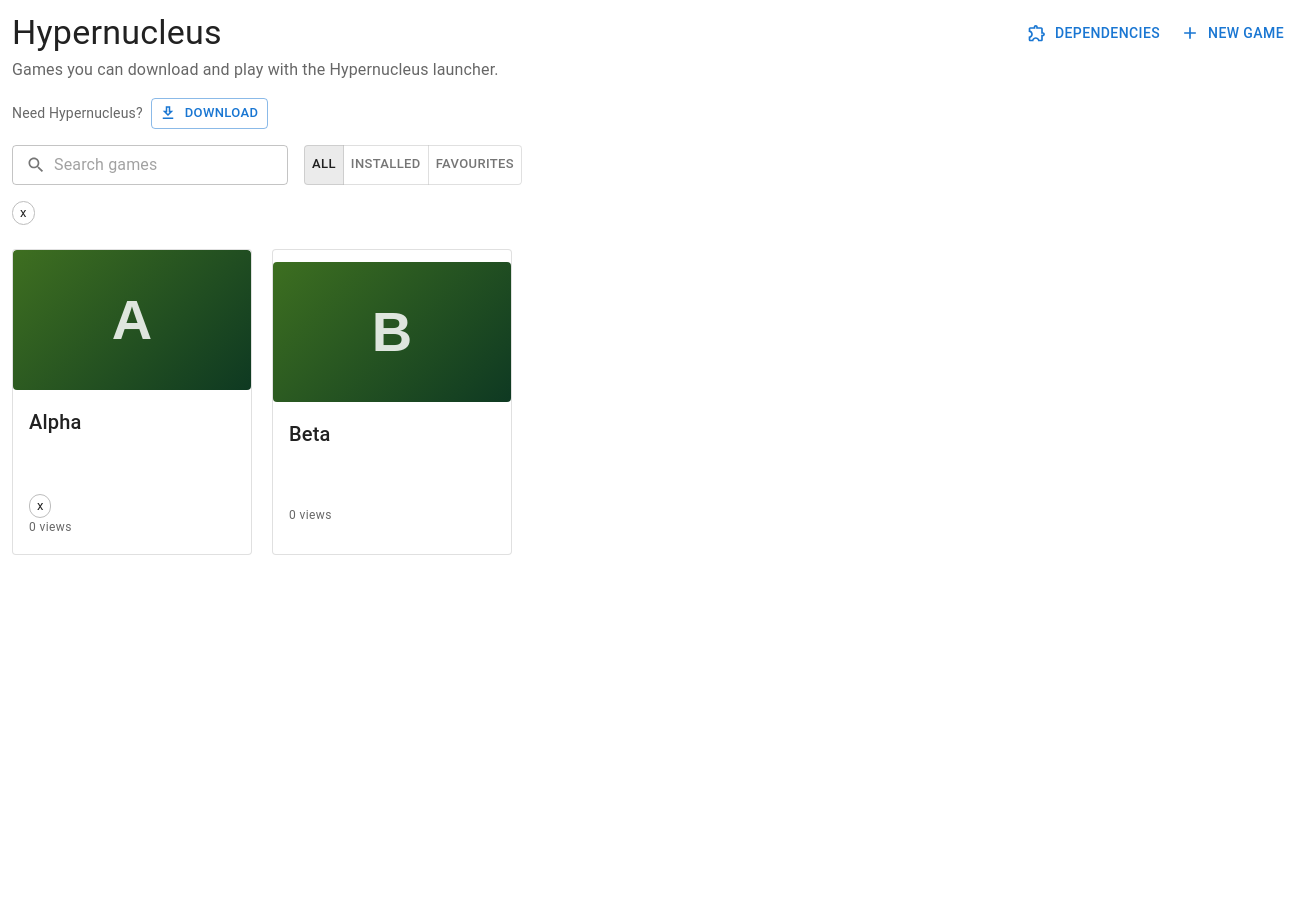
Scenario: GameLibrary › opens a game from the grid
Click the heading "Beta": (310, 434) [289, 422, 330, 446]
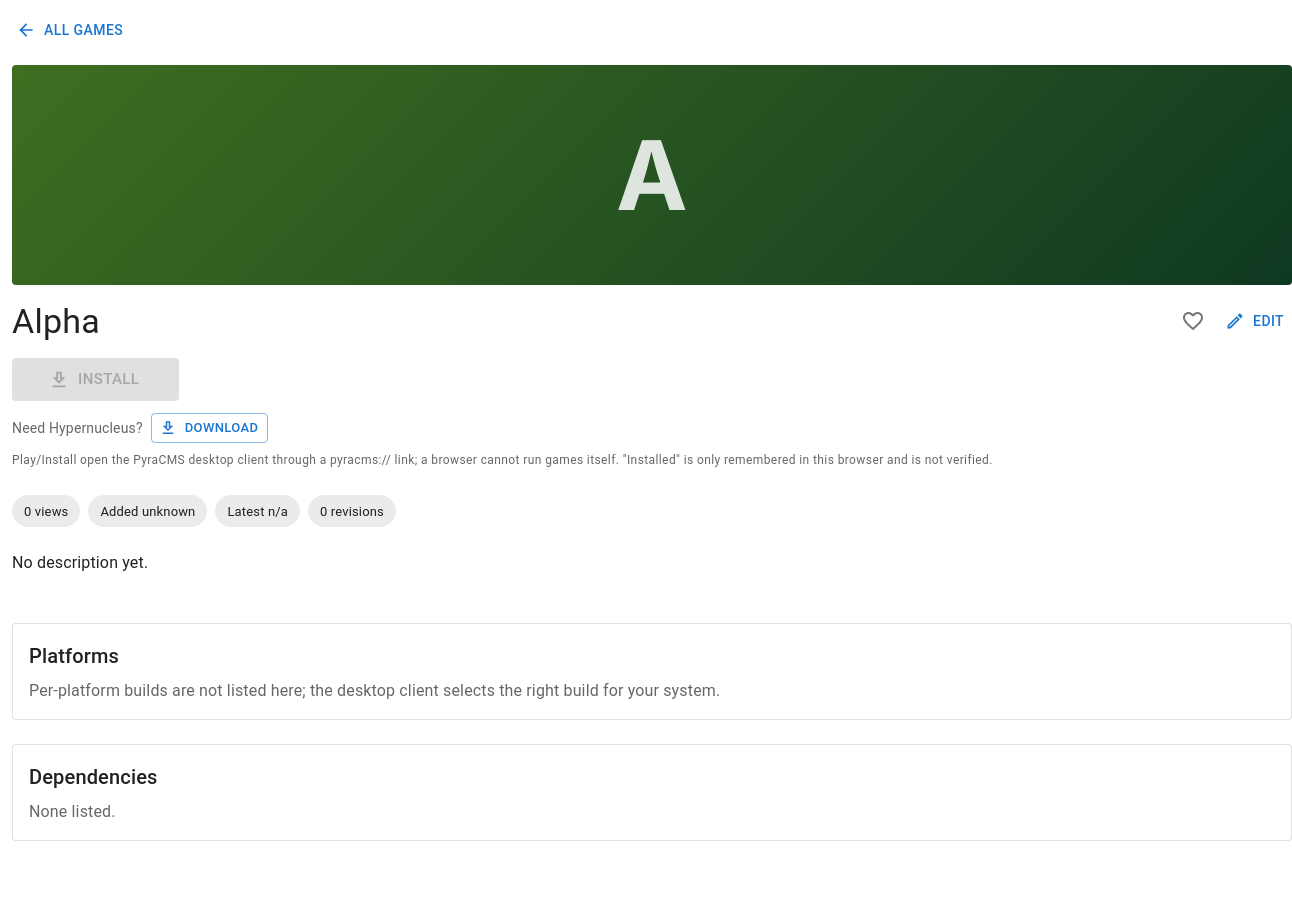
Expected: the element with test id "game-actions" is shown, [12, 358, 993, 468]
